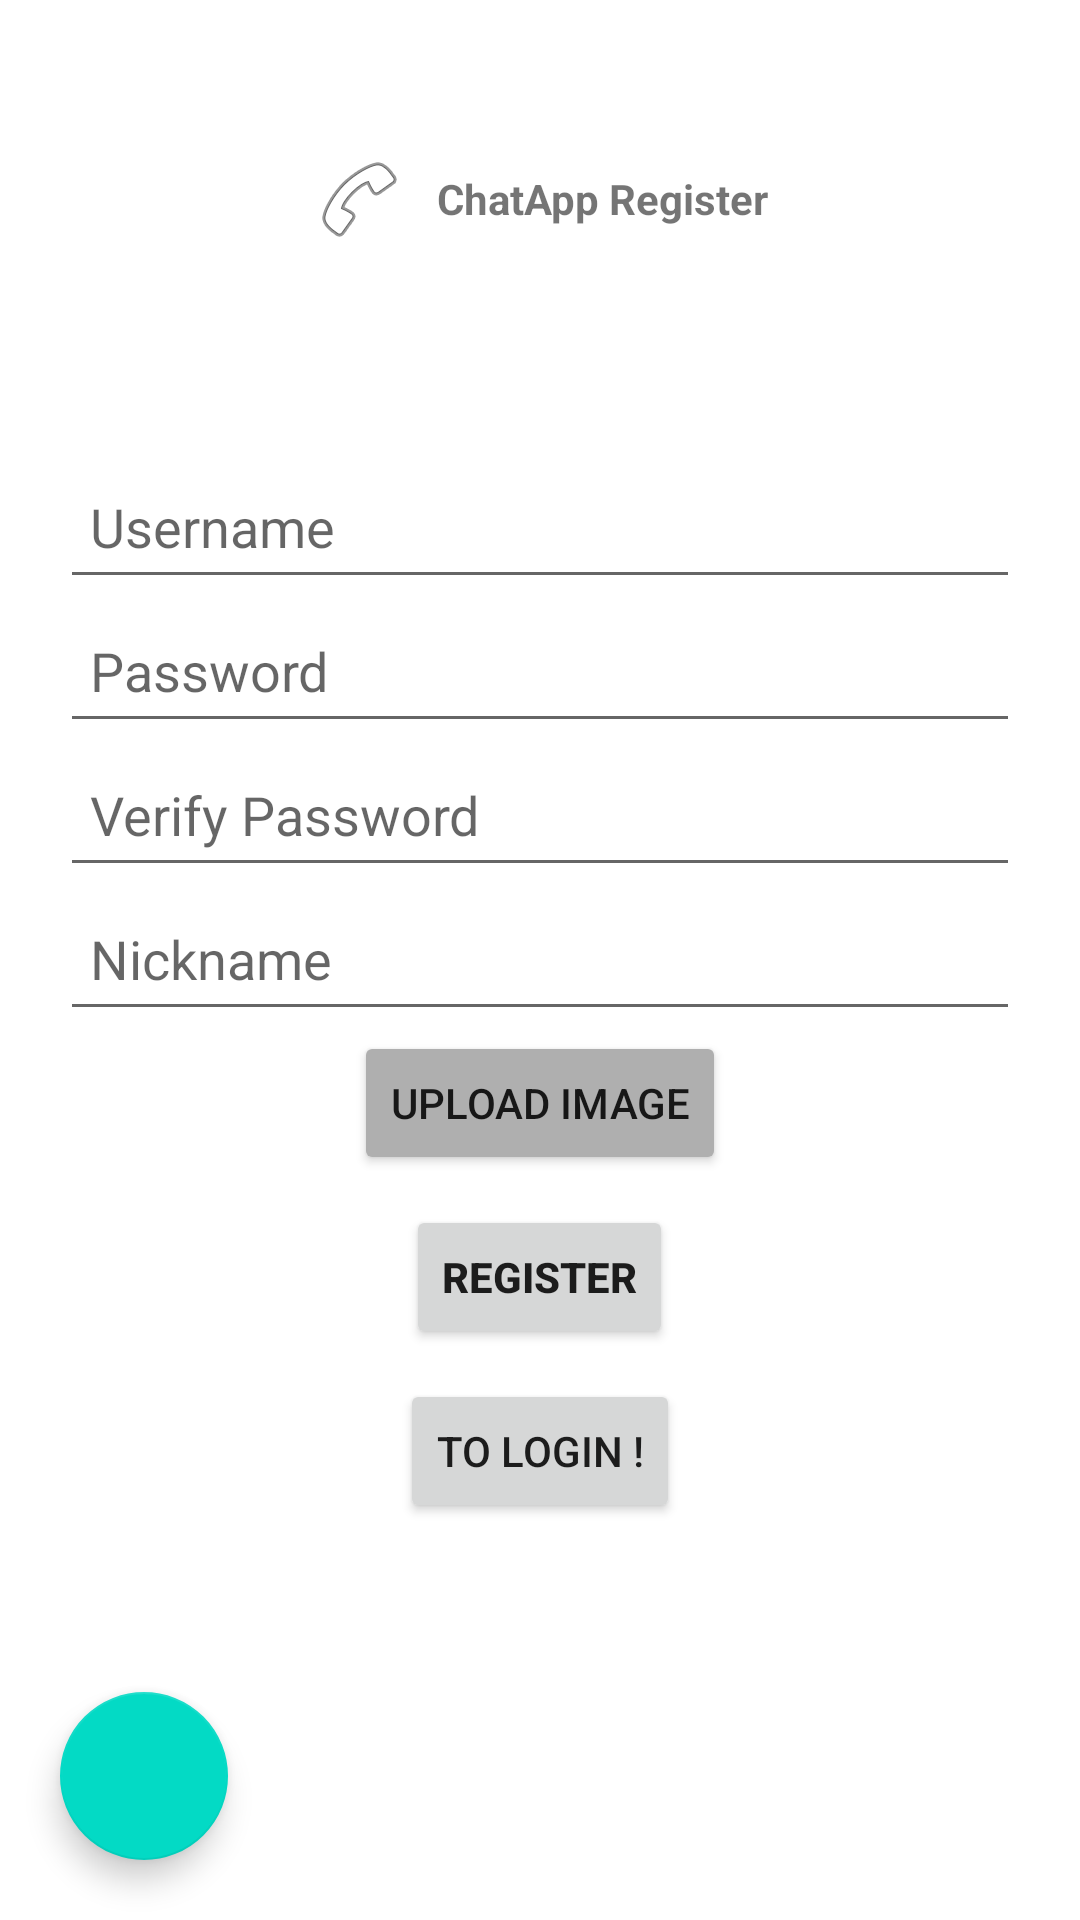

Where to tap for icons on this 1080 x 1920 app screen, as (x=x, y=y):
call: (x=359, y=199)
